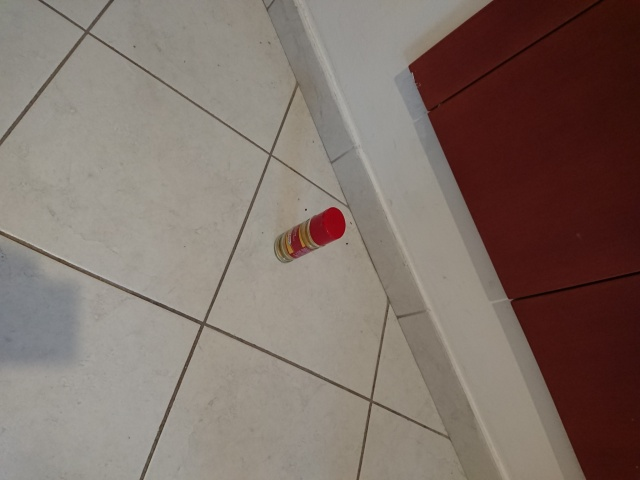Kotanyi Curry Spices Mix 70g: (272, 205, 348, 264)
